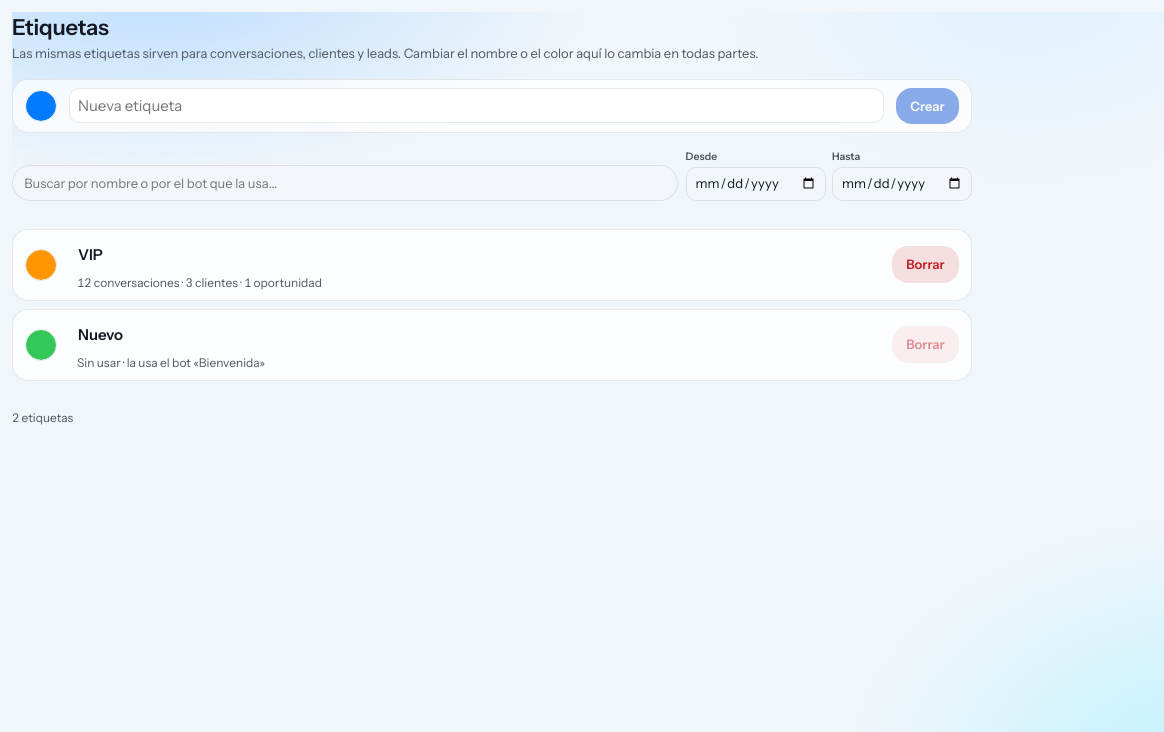
Test: Etiquetas · buscar y paginar › buscar filtra y el contador pasa a decir «X de Y»
Expected: the field showing "VIP" is shown, [69,238,880,273]
In the search field: (345, 183) [12,166,678,201], type "vip"
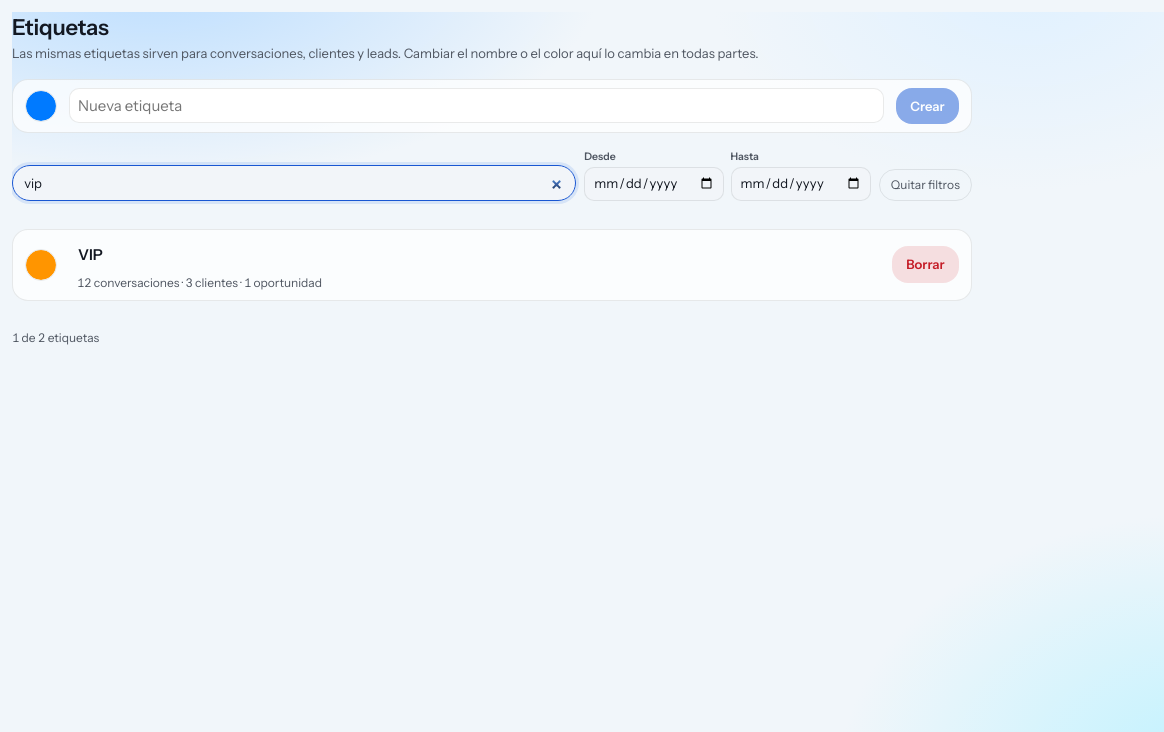
Expected: the field showing "Nuevo" is not shown
Expected: the text "1 de 2 etiquetas" is shown, [12,329,99,346]
